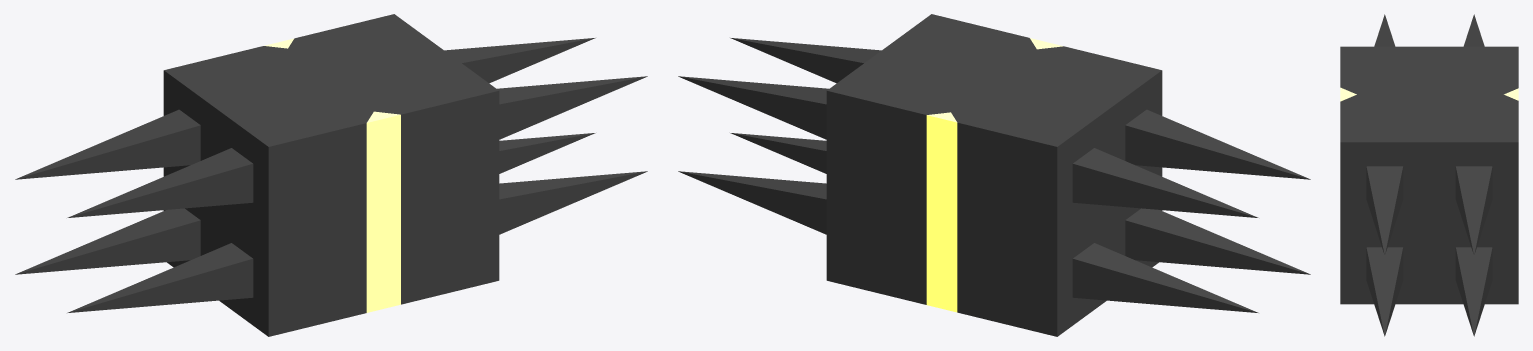
File: spikes.fbx
3 renders of one model, left to right at view 1: azimuth 30°, elevation 25°; view 2: azimuth 150°, elevation 25°; view 3: azimuth 270°, elevation 25°, orthographic. The views are drawn at different scales.
Visible parts, largest first — view 1: spikes; view 2: spikes; view 3: spikes.
Part boxes in pixels (bbox=[...]): spikes: bbox=[15, 14, 647, 336]; spikes: bbox=[678, 14, 1310, 336]; spikes: bbox=[1340, 14, 1518, 336].
Size of the model in its own units: 641 by 200 by 200.
